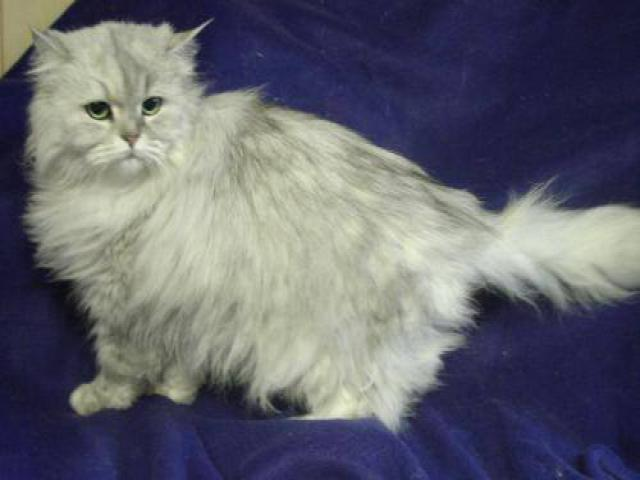cat: (16, 3, 636, 450)
